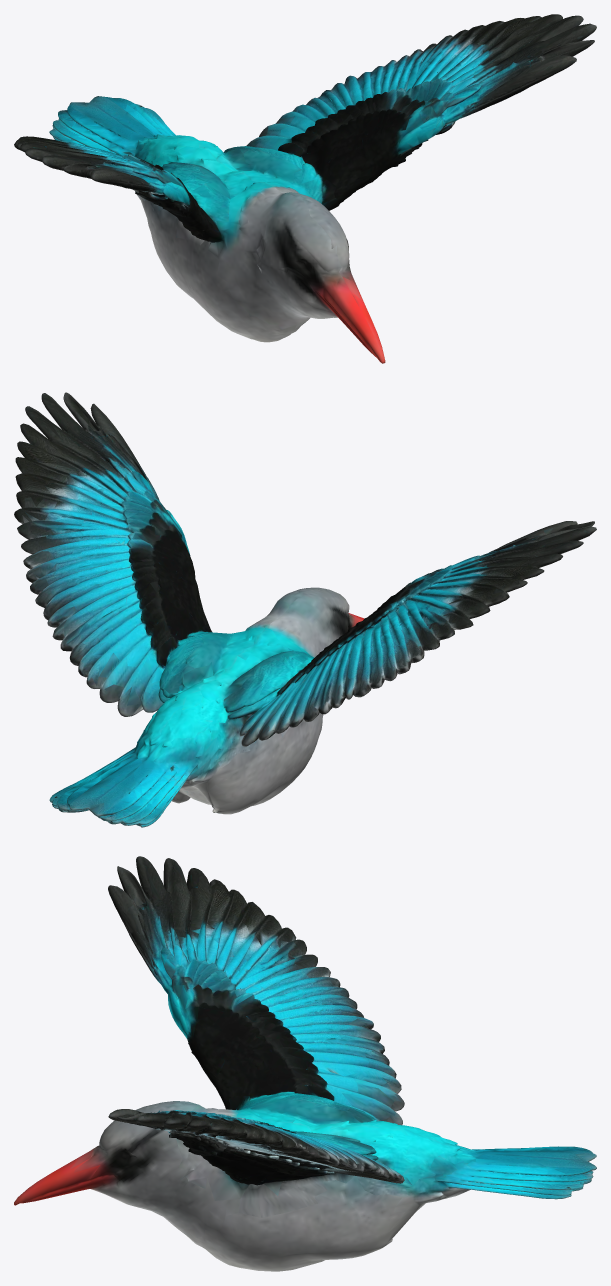
The model's file is Halcyon_senegaloides.glb.
The picture shows the model from 3 angles, top to bottom: view 1: azimuth 30°, elevation 25°; view 2: azimuth 150°, elevation 25°; view 3: azimuth 270°, elevation 25°; orthographic projection. The views are drawn at different scales.
Parts seen in each view (by area): view 1: orient; view 2: orient; view 3: orient.
Part boxes in pixels (x1,y1,x2,y2): orient: [14, 14, 596, 363]; orient: [14, 392, 596, 827]; orient: [14, 856, 596, 1271].
Bounding box in the file's own units: 0.5001 × 0.2486 × 0.466.
1 material, 1 textured.
